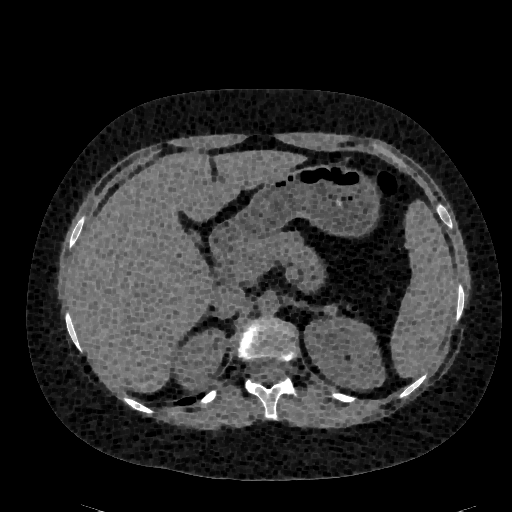Lesion: (318, 298, 342, 318)
